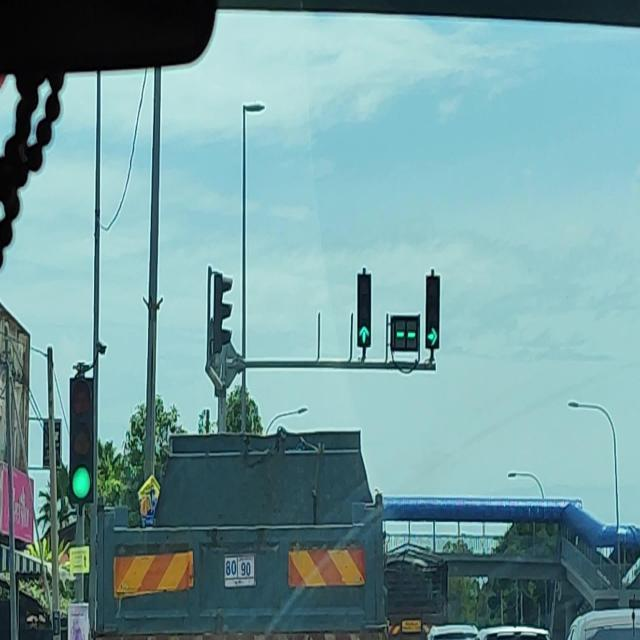green_light: (69, 378, 94, 504), (424, 275, 440, 348), (358, 272, 370, 348)
